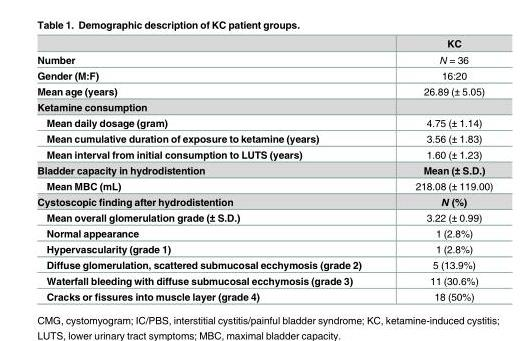table: (36, 36, 492, 301)
table column: (36, 36, 387, 301), (387, 36, 492, 301)
table column header: (36, 36, 492, 50)
table projected row header: (36, 98, 492, 114)
table row: (36, 50, 492, 67), (36, 82, 492, 98), (36, 98, 492, 114), (36, 114, 492, 130), (36, 130, 492, 146), (36, 161, 492, 177), (36, 177, 492, 193), (36, 193, 492, 209), (36, 224, 492, 240), (36, 240, 492, 256), (36, 256, 492, 272), (36, 272, 492, 288), (36, 67, 492, 82), (36, 146, 492, 161), (36, 209, 492, 224), (36, 36, 492, 50), (36, 288, 492, 301)
